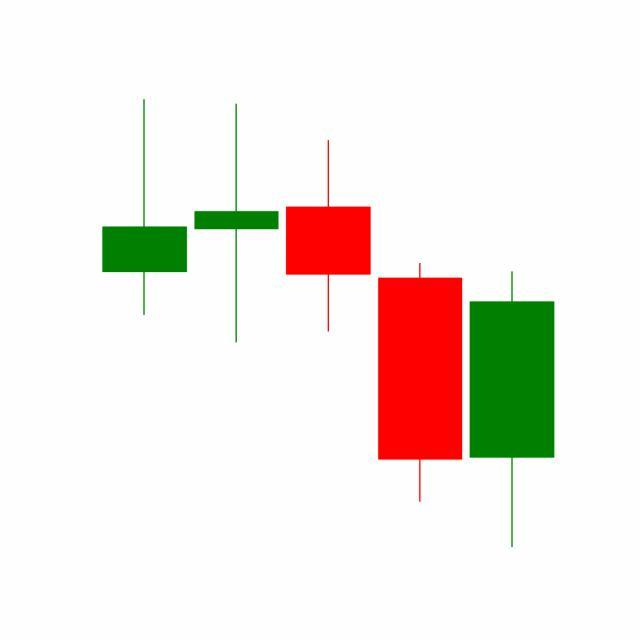Three Outside Up-Down: (190, 100, 467, 507)
